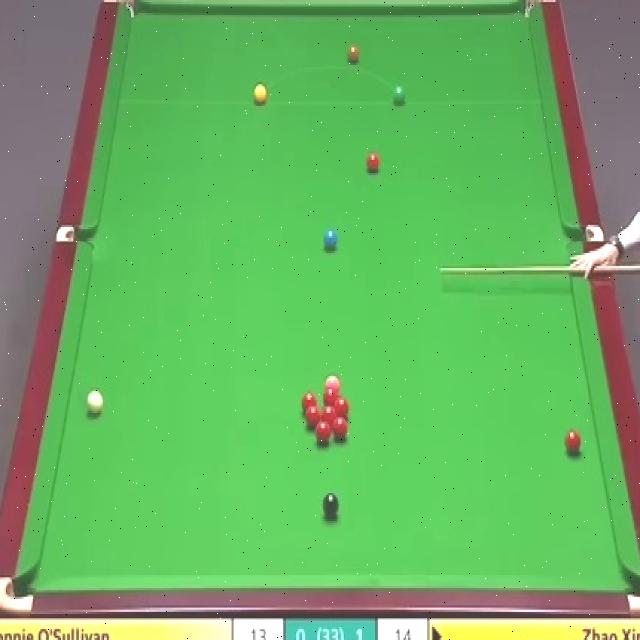black-ball: (322, 492, 339, 517)
blue-ball: (323, 229, 337, 250)
brown-ball: (347, 45, 359, 64)
green-ball: (391, 83, 406, 106)
pink-ball: (325, 374, 340, 391)
red-ball: (564, 429, 581, 454), (315, 422, 331, 445), (365, 153, 380, 175), (301, 392, 316, 414), (305, 406, 319, 429), (321, 408, 337, 428), (326, 388, 342, 405), (334, 419, 347, 439), (336, 398, 346, 418)
white-ball: (86, 390, 104, 416)
yellow-ball: (252, 84, 266, 104)
